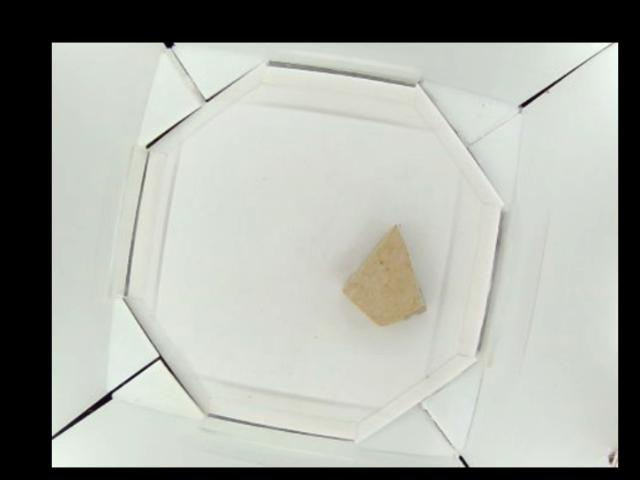China: (344, 226, 428, 325)
